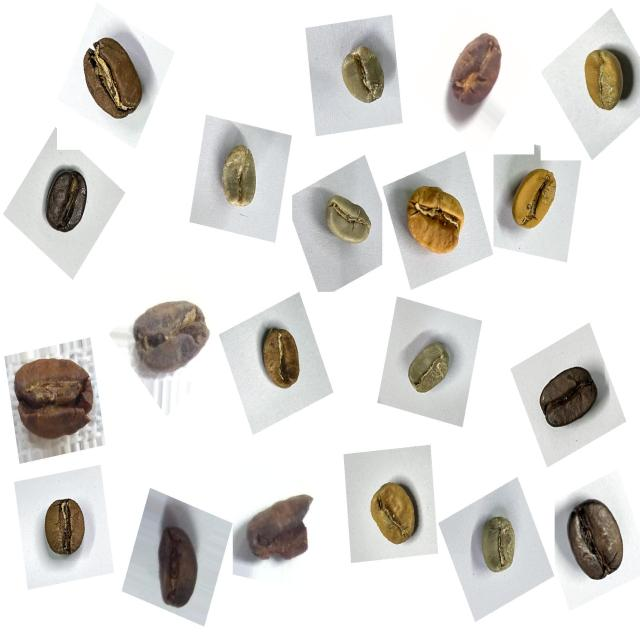bad: (6, 344, 103, 455), (126, 290, 216, 389), (240, 484, 323, 579), (146, 514, 213, 617), (445, 26, 512, 117)
dark: (557, 489, 637, 594), (531, 355, 607, 443), (34, 162, 99, 248)
green: (328, 36, 397, 119), (210, 136, 274, 223), (398, 331, 463, 408), (315, 185, 381, 258), (469, 506, 528, 586)
light: (393, 173, 474, 268), (356, 470, 425, 557), (570, 38, 638, 124), (503, 163, 572, 245)
medium: (68, 28, 152, 134), (249, 320, 313, 401), (34, 489, 98, 568)
